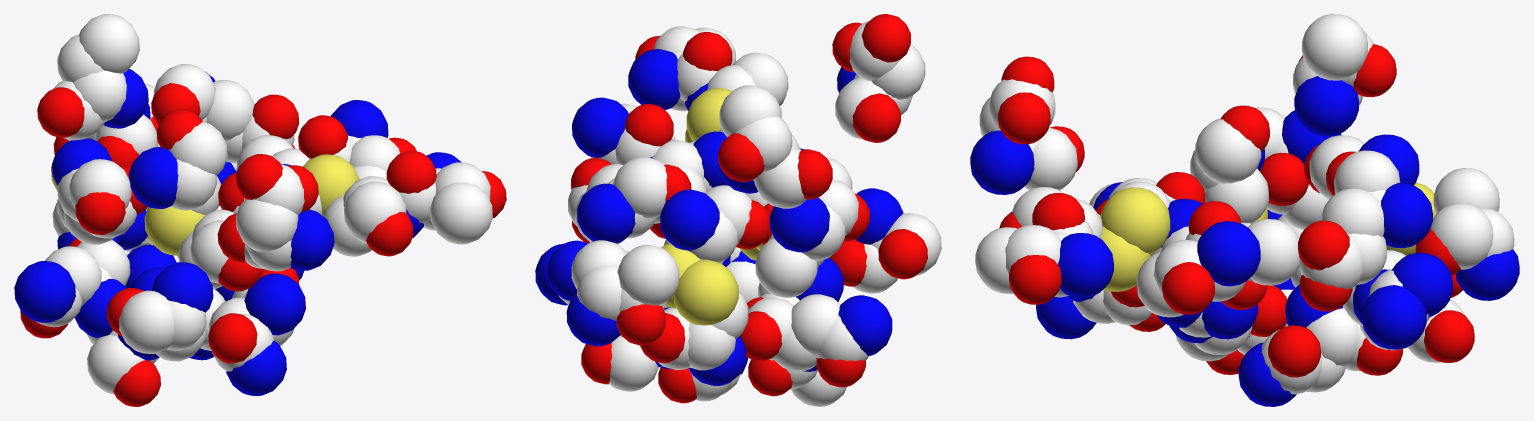
The model's file is bigmolecule.glb.
3 renders of one model, left to right at view 1: azimuth 30°, elevation 25°; view 2: azimuth 150°, elevation 25°; view 3: azimuth 270°, elevation 25°, orthographic. The views are drawn at different scales.
Parts seen in each view (by area): view 1: S.7.0.N46.OXT.327-C (×35), S.7.0.N46.OXT.327-O (×19), S.7.0.N46.OXT.327-N (×13), S.7.0.N46.OXT.327-S (×2); view 2: S.7.0.N46.OXT.327-C (×38), S.7.0.N46.OXT.327-O (×20), S.7.0.N46.OXT.327-N (×14), S.7.0.N46.OXT.327-S (×3); view 3: S.7.0.N46.OXT.327-C (×28), S.7.0.N46.OXT.327-N (×16), S.7.0.N46.OXT.327-O (×19), S.7.0.N46.OXT.327-S (×2).
Part boxes in pixels (x1=…): S.7.0.N46.OXT.327-C (×35): x1=35, y1=14, x2=492, y2=394; S.7.0.N46.OXT.327-O (×19): x1=20, y1=83, x2=506, y2=406; S.7.0.N46.OXT.327-N (×13): x1=14, y1=69, x2=388, y2=395; S.7.0.N46.OXT.327-S (×2): x1=144, y1=154, x2=359, y2=255; S.7.0.N46.OXT.327-C (×38): x1=571, y1=21, x2=941, y2=406; S.7.0.N46.OXT.327-O (×20): x1=571, y1=14, x2=927, y2=403; S.7.0.N46.OXT.327-N (×14): x1=535, y1=49, x2=903, y2=385; S.7.0.N46.OXT.327-S (×3): x1=661, y1=88, x2=738, y2=325; S.7.0.N46.OXT.327-C (×28): x1=975, y1=14, x2=1514, y2=394; S.7.0.N46.OXT.327-N (×16): x1=970, y1=76, x2=1519, y2=406; S.7.0.N46.OXT.327-O (×19): x1=998, y1=44, x2=1474, y2=377; S.7.0.N46.OXT.327-S (×2): x1=1100, y1=187, x2=1170, y2=291.
Size of the model in its own units: 1.7 by 1.53 by 2.08.
